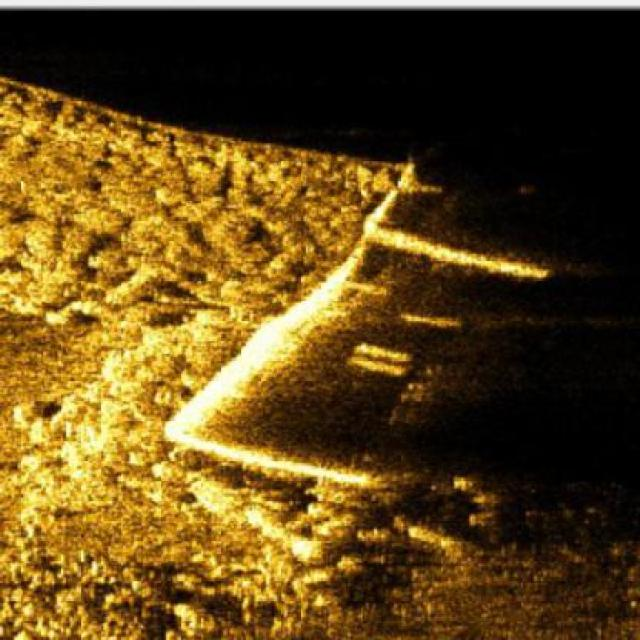bedrock group: (0, 77, 415, 639)
